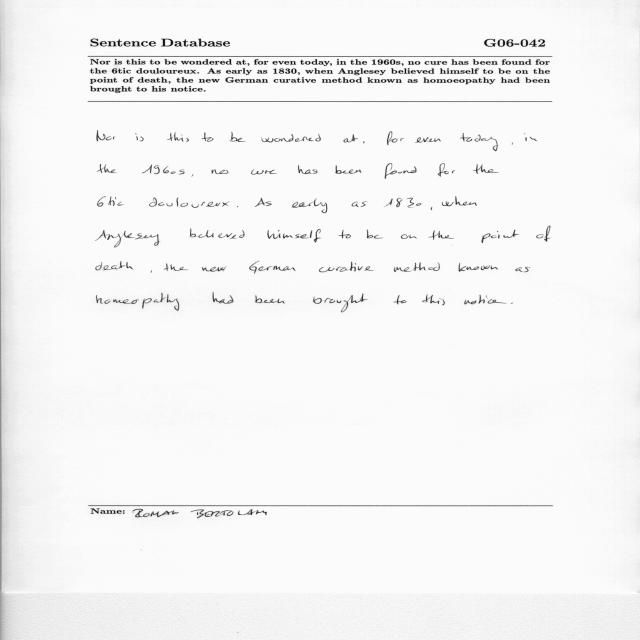word: (96, 293, 179, 311), (96, 230, 161, 247), (313, 294, 368, 313), (149, 197, 229, 208), (268, 229, 321, 242), (460, 133, 498, 151), (189, 228, 245, 239), (249, 261, 296, 274), (319, 262, 374, 272), (385, 163, 417, 179), (292, 199, 328, 213), (482, 230, 519, 243), (261, 134, 321, 142), (394, 262, 440, 272), (142, 165, 185, 175), (464, 295, 506, 305), (384, 198, 421, 208), (459, 263, 498, 272), (442, 197, 477, 207), (96, 261, 133, 270), (98, 196, 124, 207), (255, 295, 284, 304), (473, 164, 499, 174), (422, 295, 445, 306), (213, 292, 234, 304), (335, 165, 362, 174), (536, 226, 551, 242), (387, 131, 404, 145), (429, 231, 454, 240), (438, 164, 455, 177), (167, 132, 189, 142), (97, 131, 116, 142), (164, 264, 188, 272), (97, 164, 117, 173), (298, 165, 317, 174), (230, 132, 246, 142), (415, 137, 441, 143), (251, 169, 277, 175), (255, 198, 272, 207), (367, 230, 384, 239), (202, 266, 226, 272), (344, 134, 359, 142), (394, 295, 407, 304), (202, 132, 213, 142), (338, 230, 351, 238), (212, 169, 229, 174), (401, 234, 417, 239), (352, 202, 367, 207), (515, 267, 530, 272), (135, 134, 144, 142), (526, 137, 538, 141), (192, 174, 194, 177), (431, 207, 433, 210), (150, 270, 152, 273), (363, 142, 365, 144), (512, 143, 513, 145), (511, 303, 513, 304), (237, 206, 238, 207)
